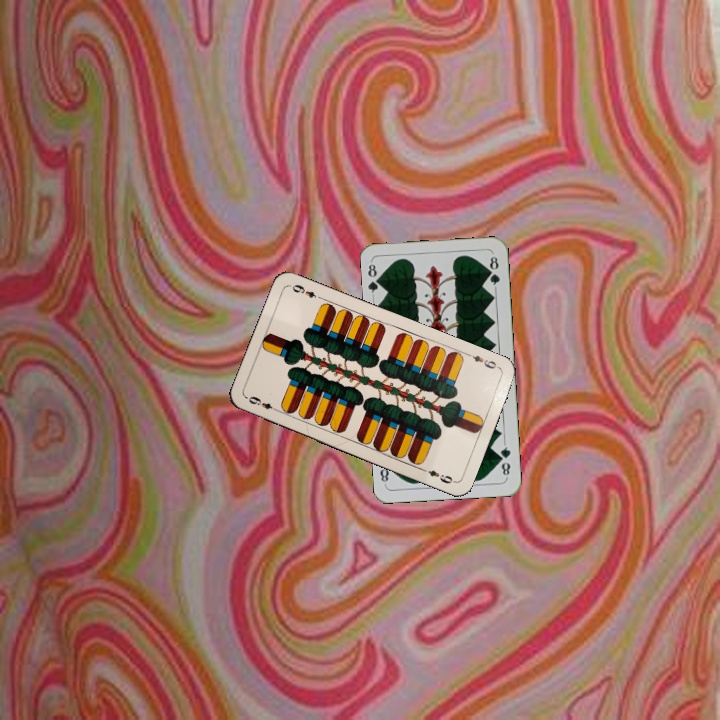E9: (243, 392, 282, 415), (463, 350, 502, 372)
G8: (364, 258, 385, 299), (496, 439, 513, 480)
